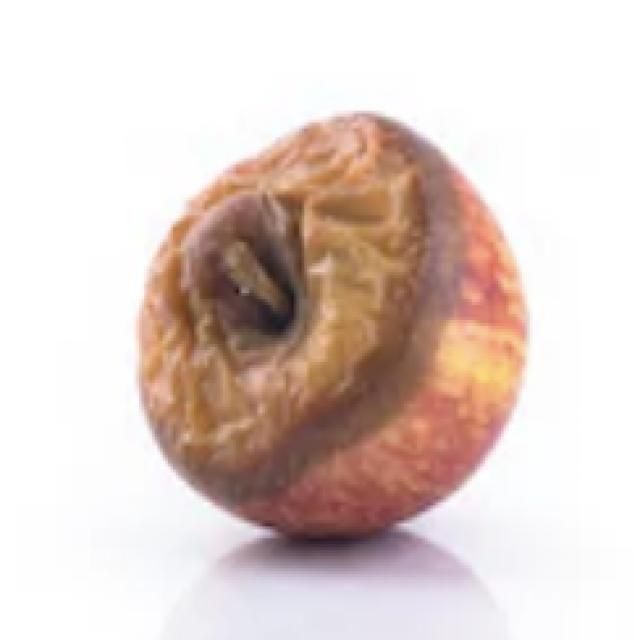Rotten: (132, 110, 526, 563)
